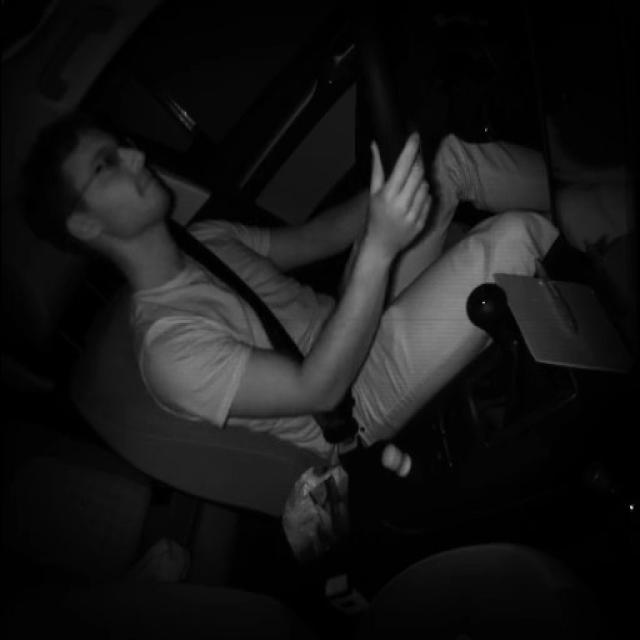pen: (531, 251, 581, 342)
